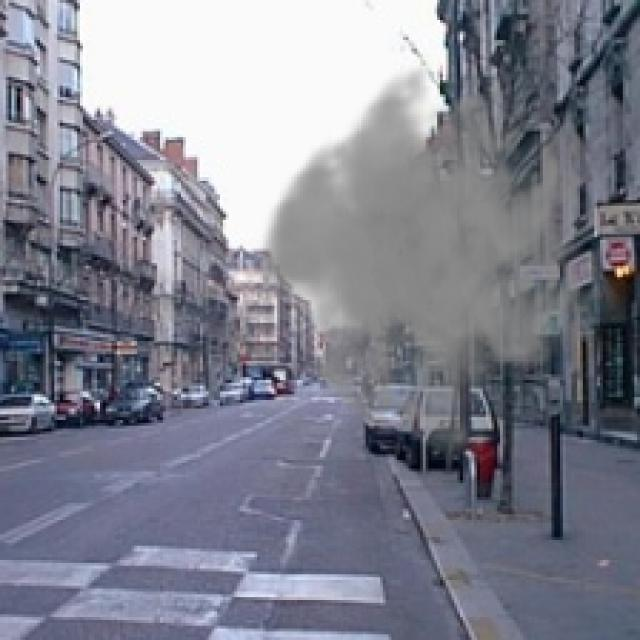smoke: (254, 51, 606, 466)
